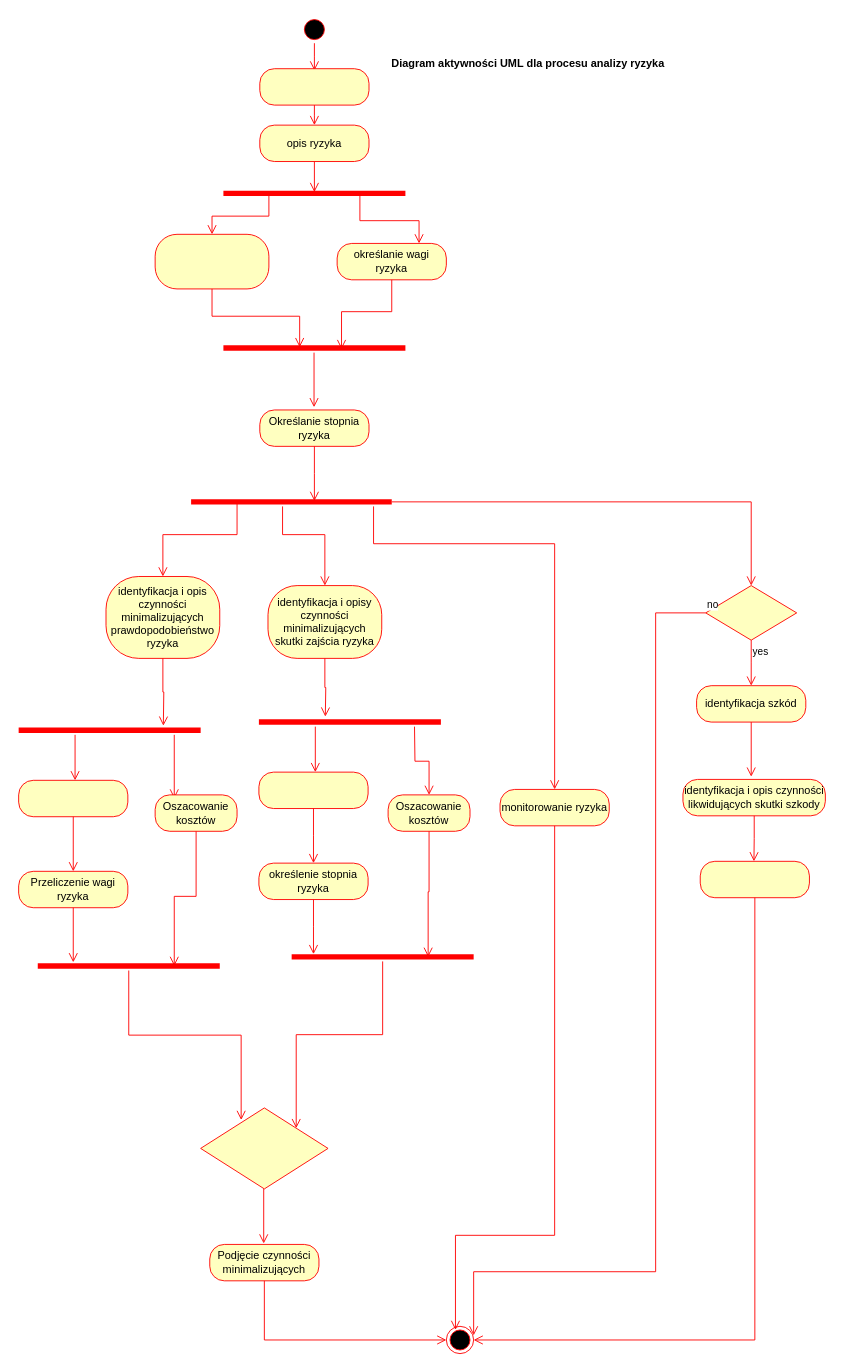
This 841x1370 diagram has some shape labels left out. The shapes that lost their labels are listed below. From the top down, each one's centre as x and y in pixels, then its label:
At (314,86): "identyfikacja i opis ryzyka".
At (211,261): "określanie prawdopodobieństwa zajścia ryzyka".
At (751,612): "zaszła szkoda".
At (73,798): "Określenie prawdopodobieństwa zajścia ryzyka".
At (313,790): "Określenie wagi".
At (754,879): "ustalenie kosztów szkód".
At (264,1148): "wybór działania minimalizującego".
